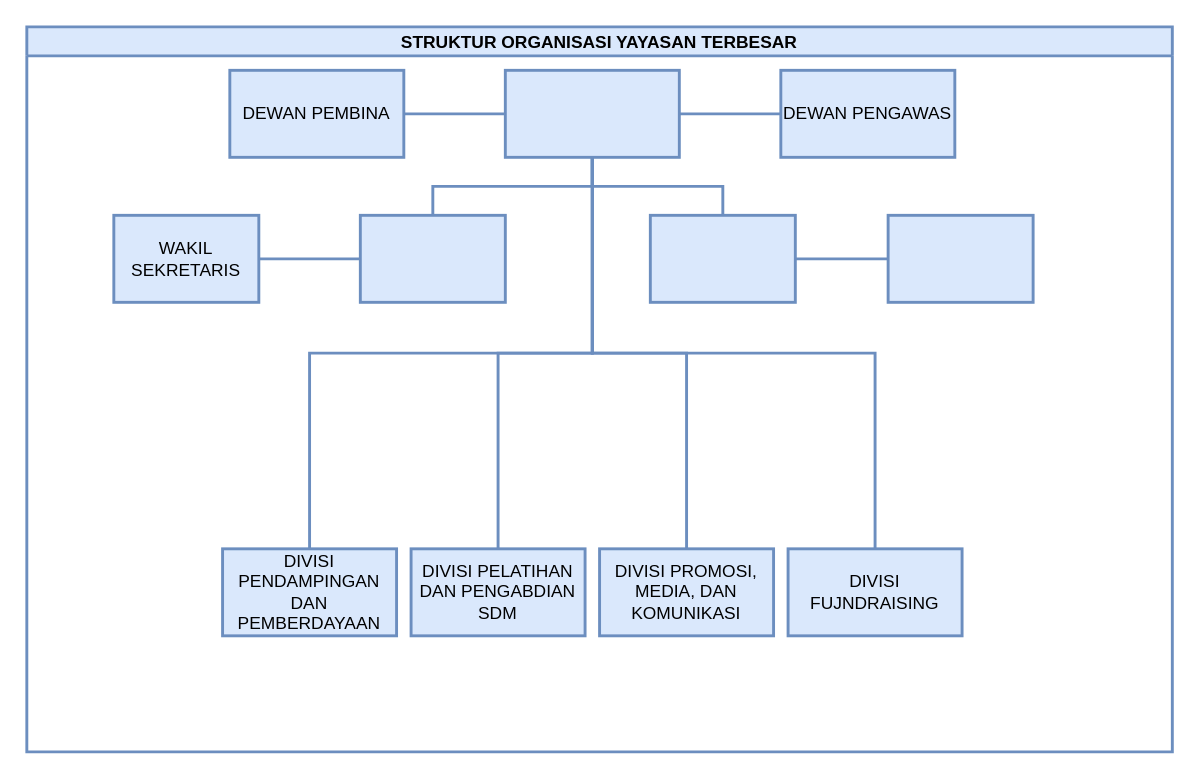
The diagram is 1198 pixels wide and 777 high, and some of its shapes have lost their labels. Each missing label, with the centre of its shape:
"BENDAHARA" belongs at [722,258].
"KETUA" belongs at [591,113].
"SEKRETARIS" belongs at [432,258].
"WAKIL BENDAHARA" belongs at [960,258].
